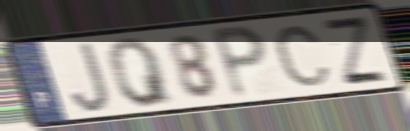8: (168, 32, 220, 102)
C: (272, 23, 334, 89)
J: (68, 39, 112, 115)
P: (208, 23, 270, 102)
Q: (105, 35, 178, 109)
Z: (318, 15, 394, 87)
